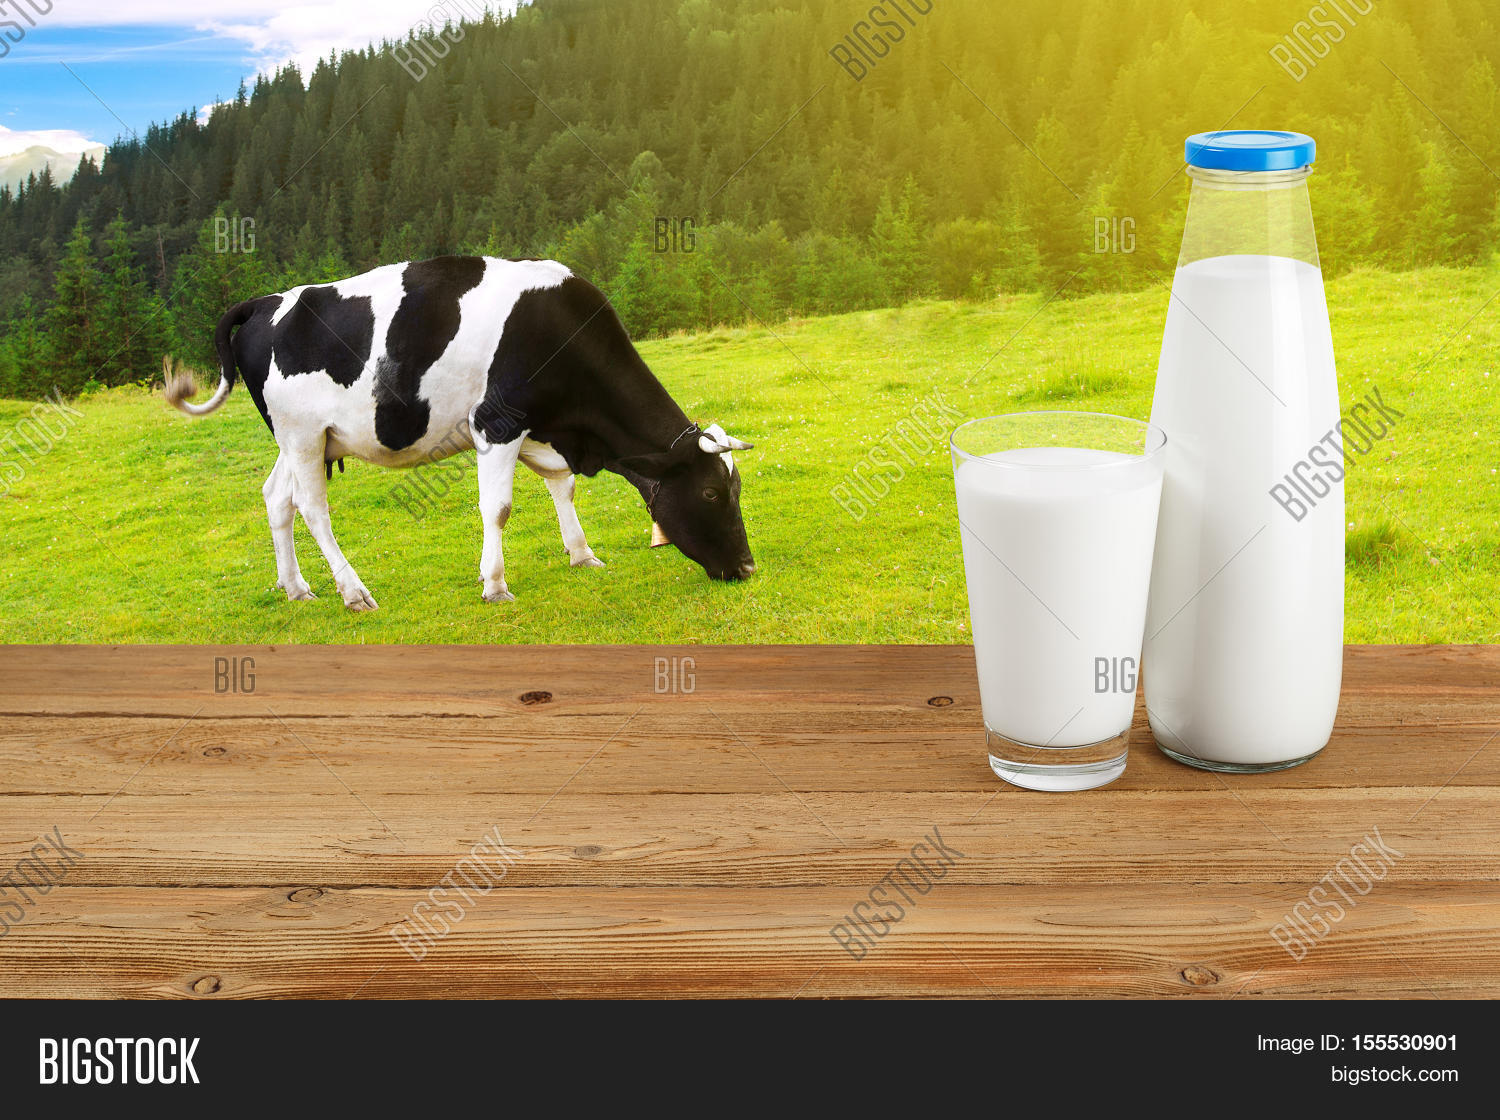glass of milk: (1129, 120, 1367, 795), (940, 414, 1173, 820)
